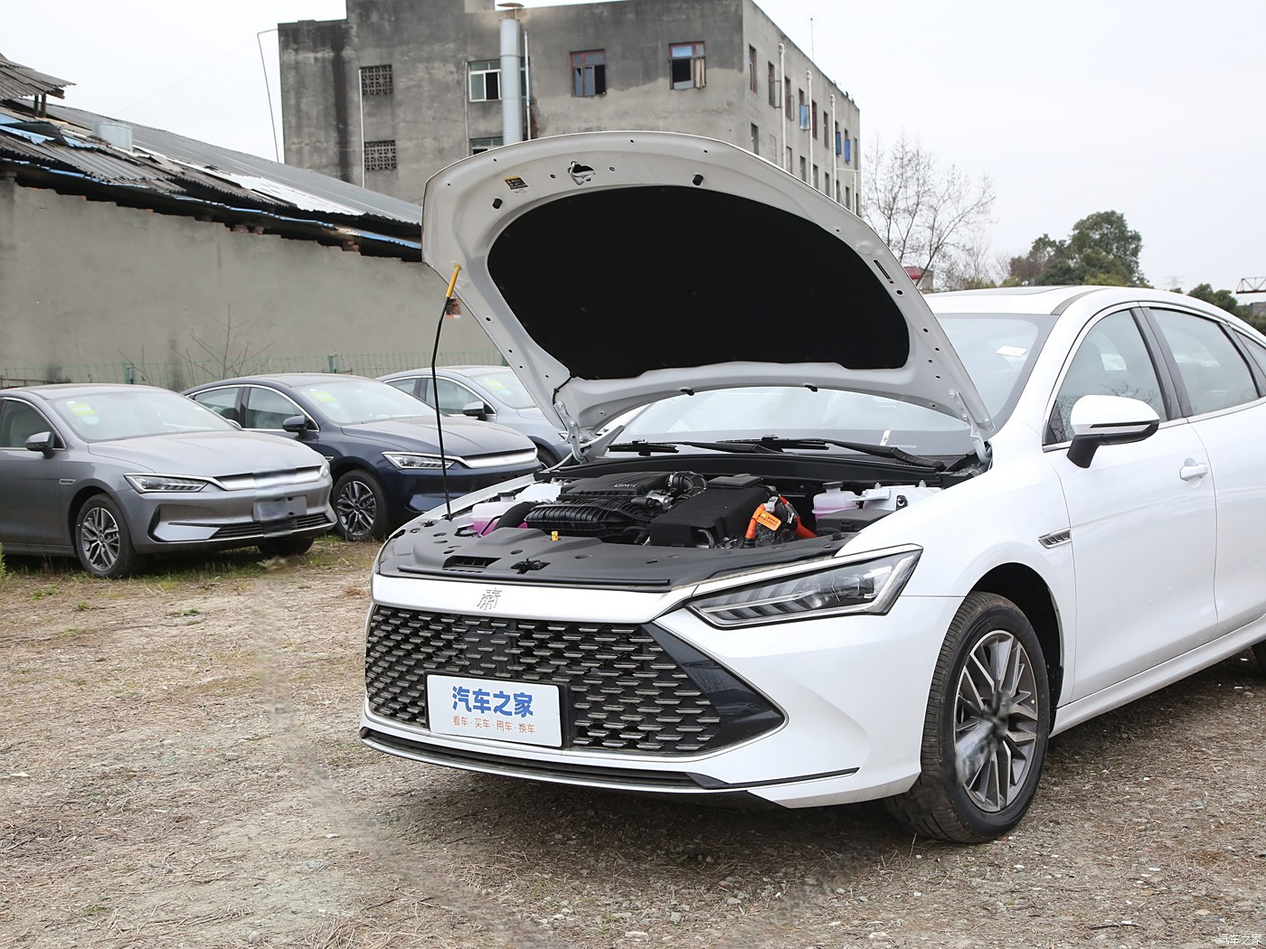BYD Qin: (477, 587, 501, 609)
